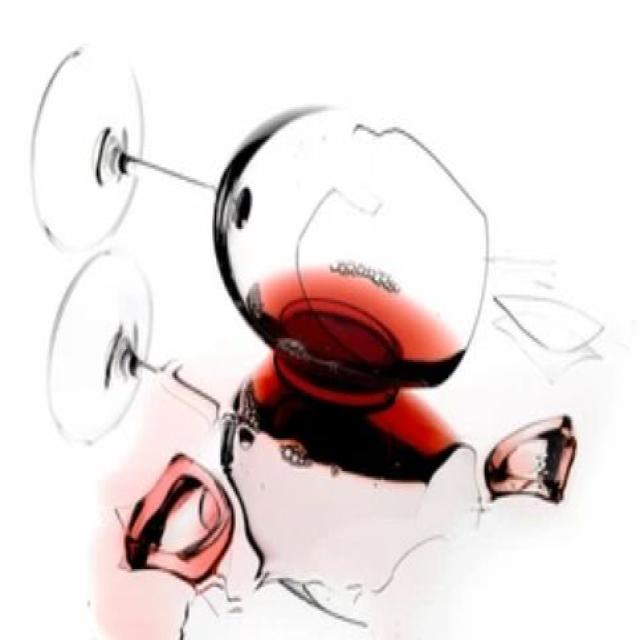electronic: (28, 41, 494, 394)
